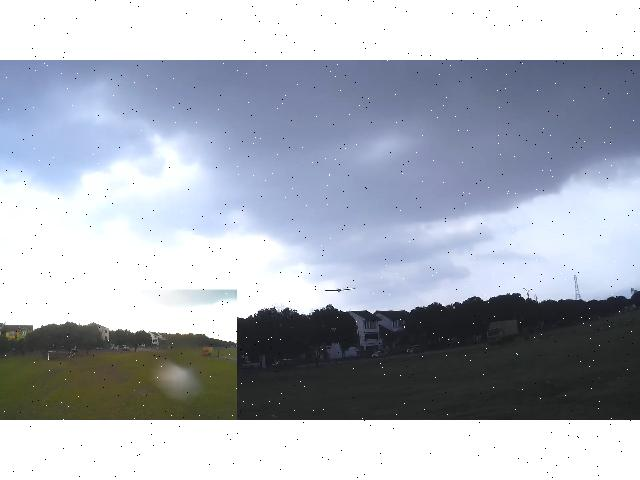Anti-Drone: (325, 288, 357, 292)
